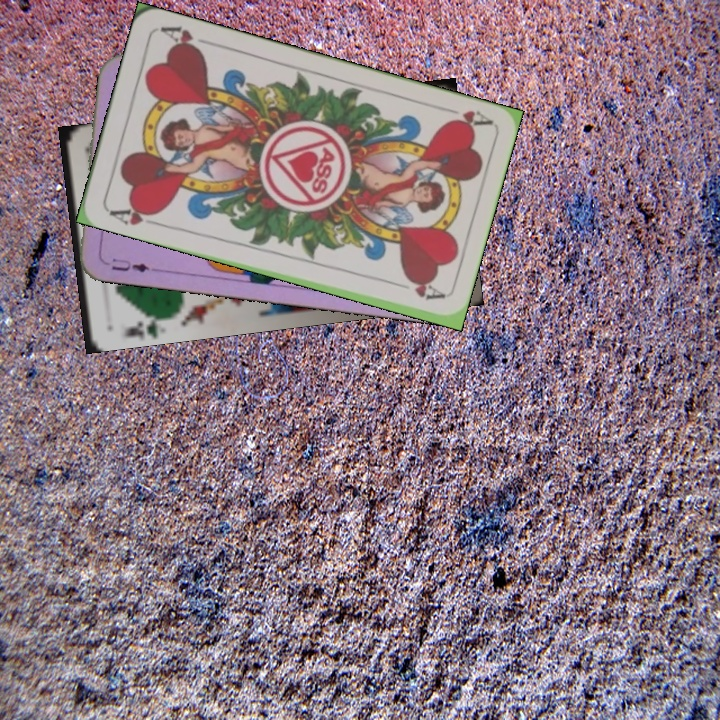EU: (107, 254, 152, 275)
GK: (121, 310, 167, 339)
HA: (435, 102, 493, 132), (105, 200, 163, 228)
